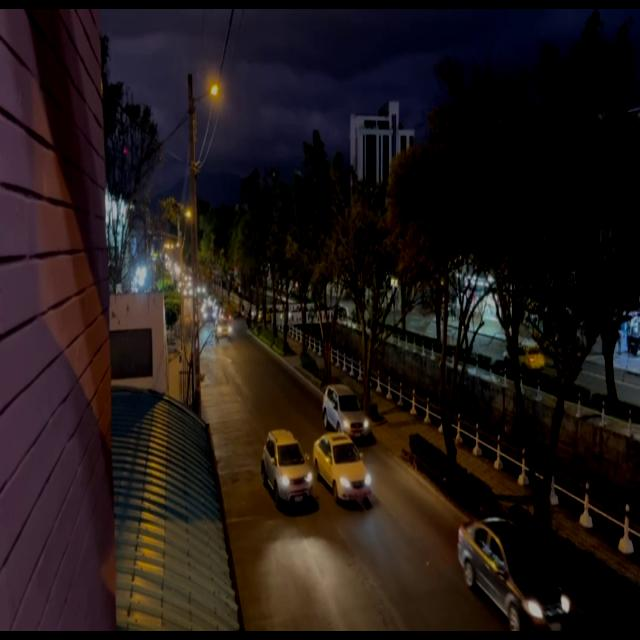SED: (458, 518, 568, 633)
SUV: (323, 378, 369, 431)
